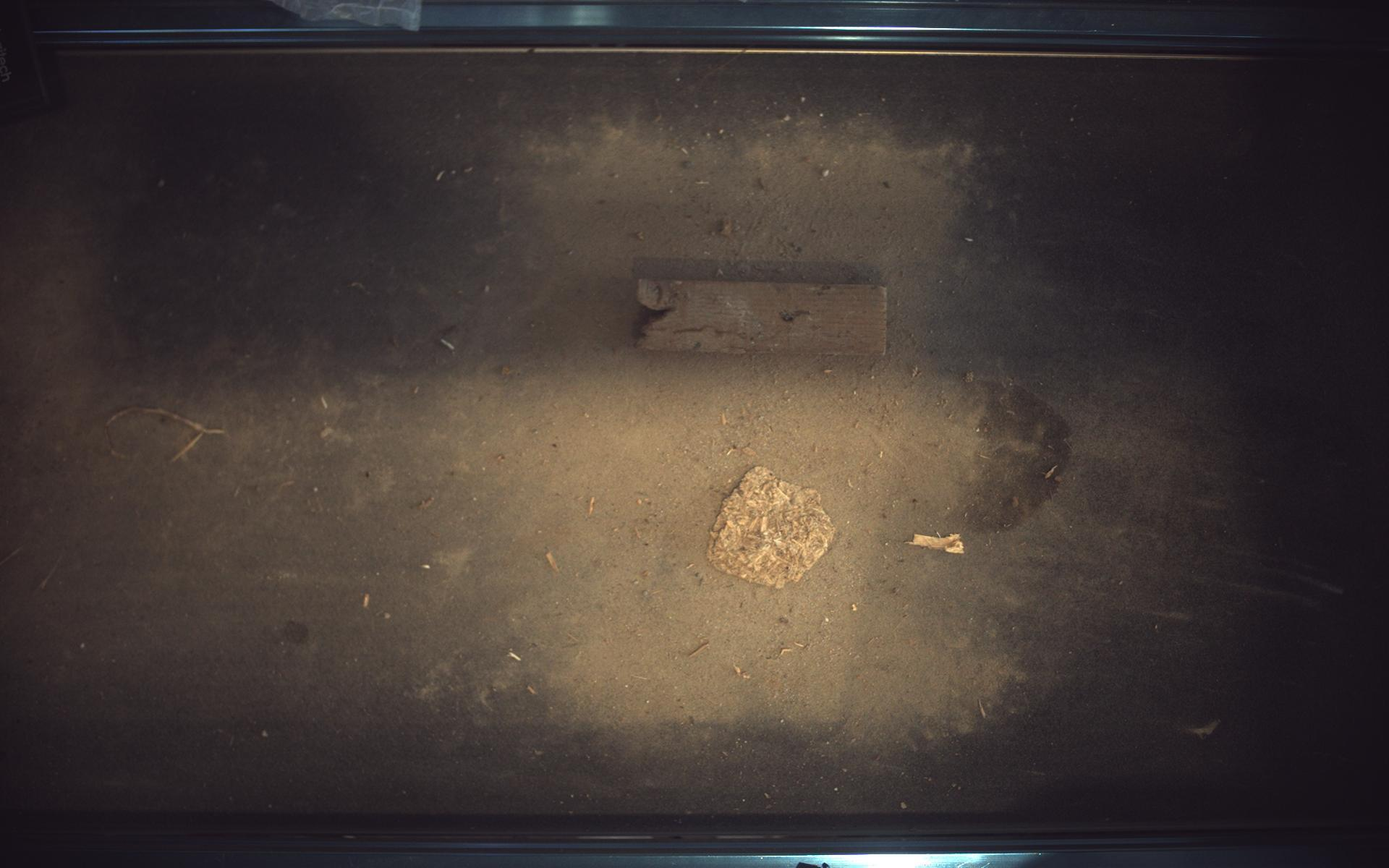wood: (639, 278, 888, 354), (708, 466, 837, 589)
